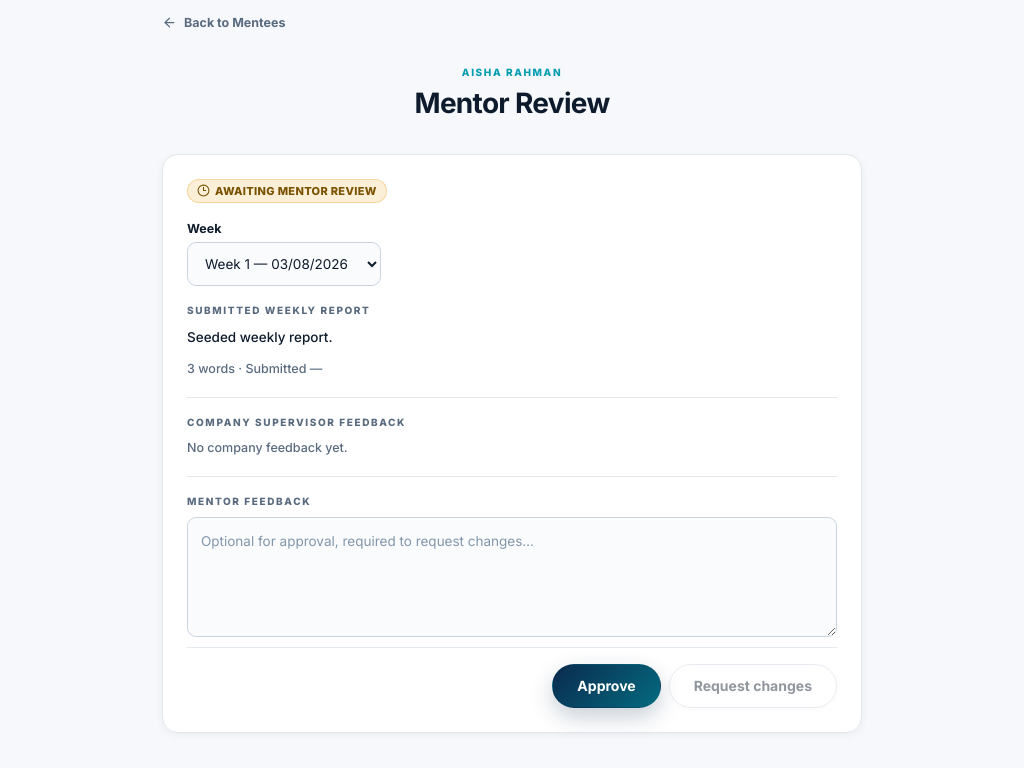
Test case: managed reviewer flows › approves as mentor after company approval
Check: the text "Seeded weekly report." is shown, box [187,329,333,345]
Click the button "Approve": coordinates (607, 686) [552,664,661,708]
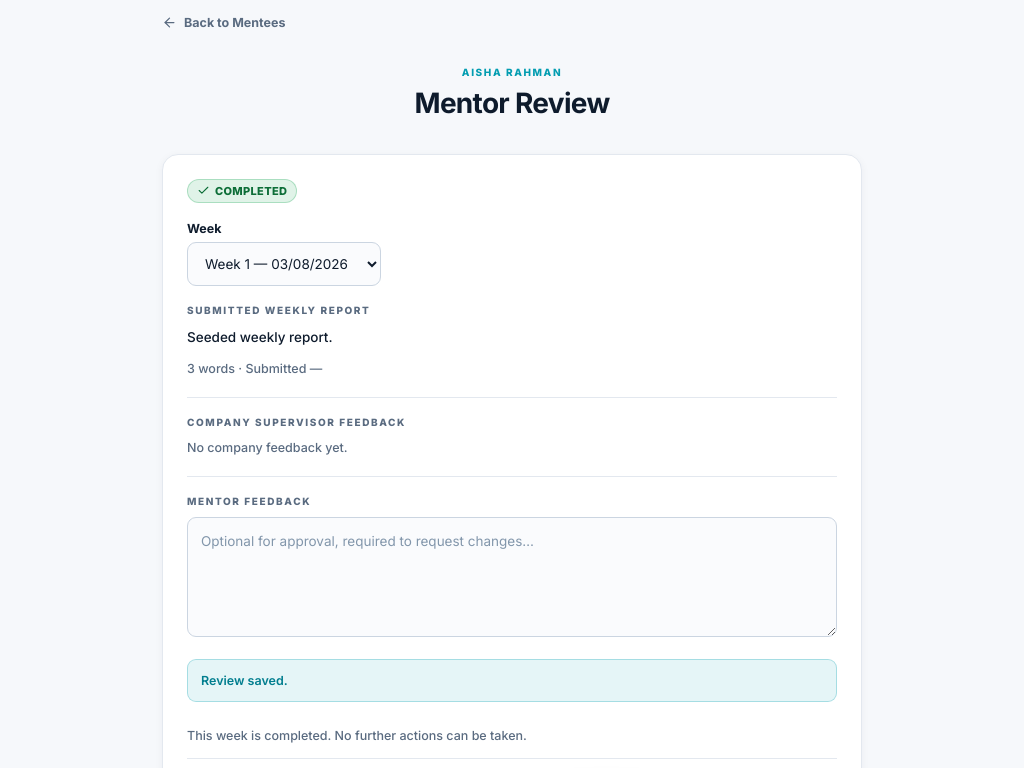
Check: the text "Review saved." is shown, box [187,658,837,702]
